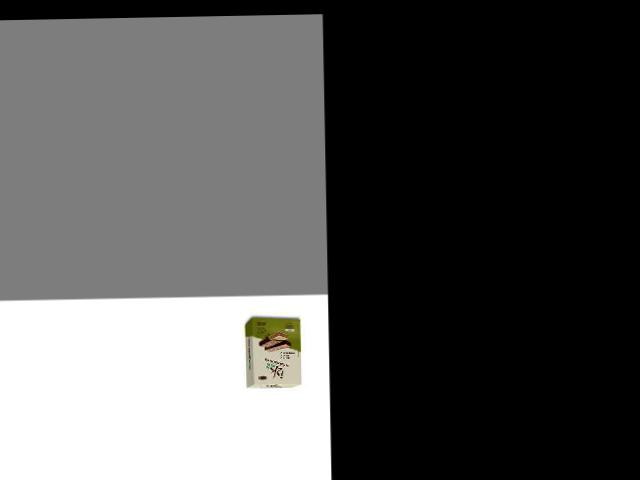chocolate: (240, 314, 302, 389)
